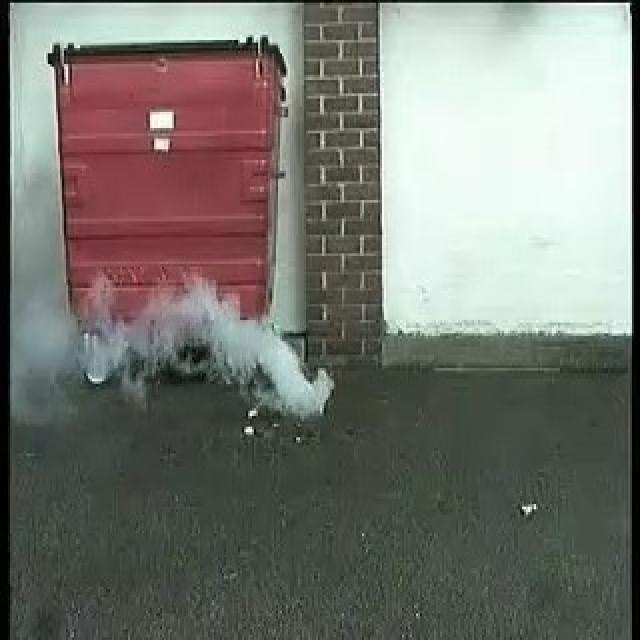smoke: (75, 269, 332, 409)
